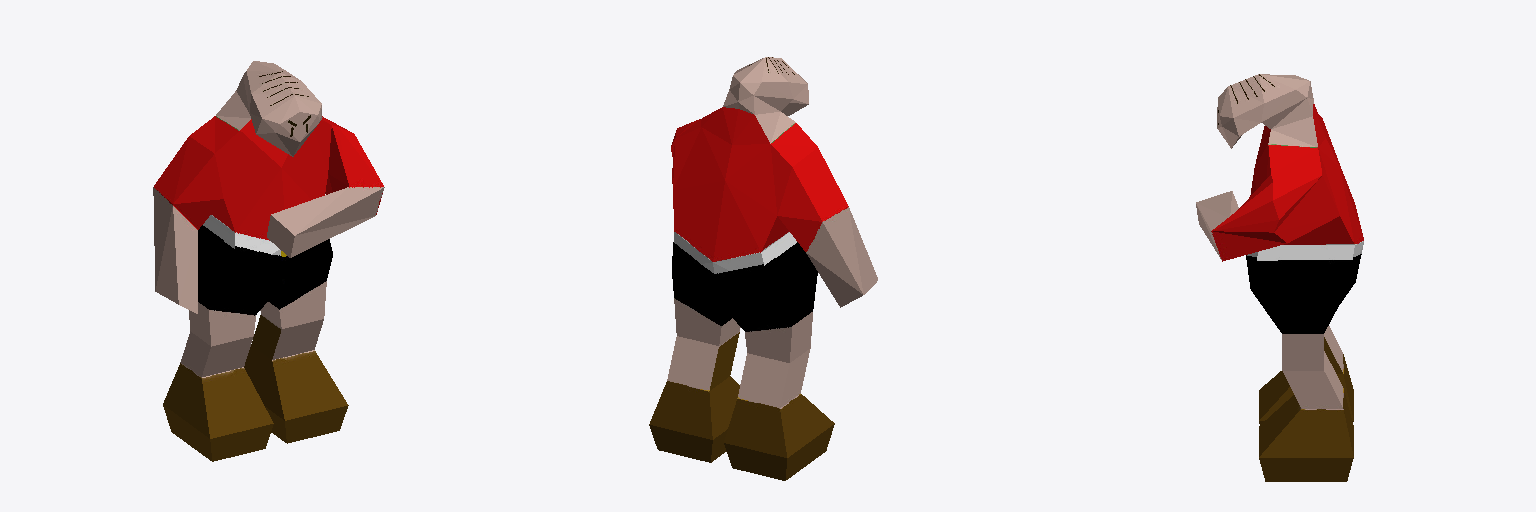
3 views of the same model, side by side, from view 1: azimuth 30°, elevation 25°; view 2: azimuth 150°, elevation 25°; view 3: azimuth 270°, elevation 25° (orthographic).
Parts seen in each view (by area): view 1: Cube.001; view 2: Cube.001; view 3: Cube.001.
Part boxes in pixels (x1,y1,x2,y2): Cube.001: (153, 61, 384, 461); Cube.001: (649, 57, 877, 480); Cube.001: (1196, 74, 1363, 481).
Bounding box in the file's own units: 1.83 × 3.36 × 1.36.
1 materials, 1 textured.